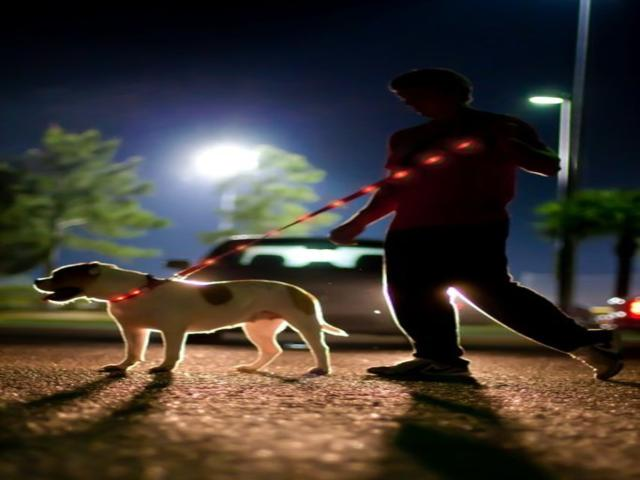Dog: (27, 258, 348, 376)
